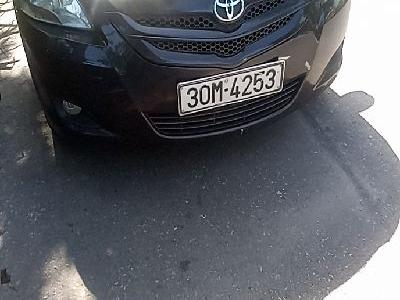lisence: (177, 60, 285, 118)
